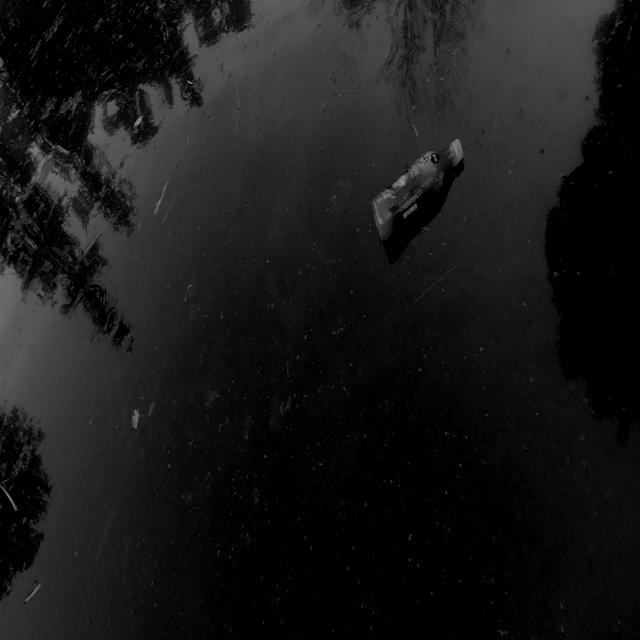bottle: (359, 114, 477, 264)
